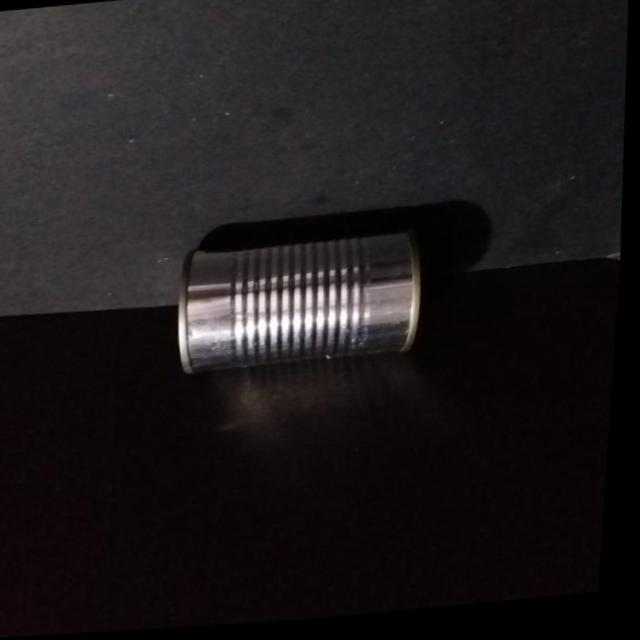metal: (167, 219, 433, 380)
